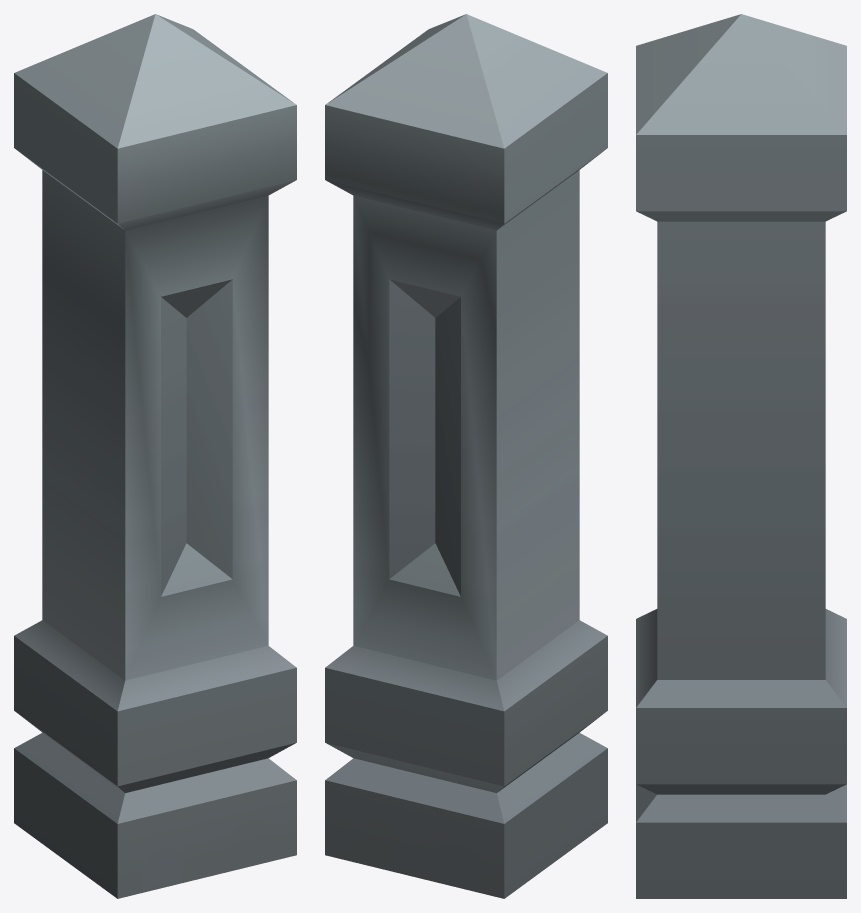
The model's file is garden_iron_pillar.glb.
The picture shows the model from 3 angles, left to right: view 1: azimuth 30°, elevation 25°; view 2: azimuth 150°, elevation 25°; view 3: azimuth 270°, elevation 25°; orthographic projection.
Visible parts, largest first — view 1: fence_pillar; view 2: fence_pillar; view 3: fence_pillar.
Part boxes in pixels (x1,y1,x2,y2): fence_pillar: (14, 14, 296, 898); fence_pillar: (325, 14, 607, 898); fence_pillar: (636, 14, 846, 898).
Size of the model in its own units: 0.5001 by 2.2 by 0.5001.
Materials: 1 (1 with a texture image).
